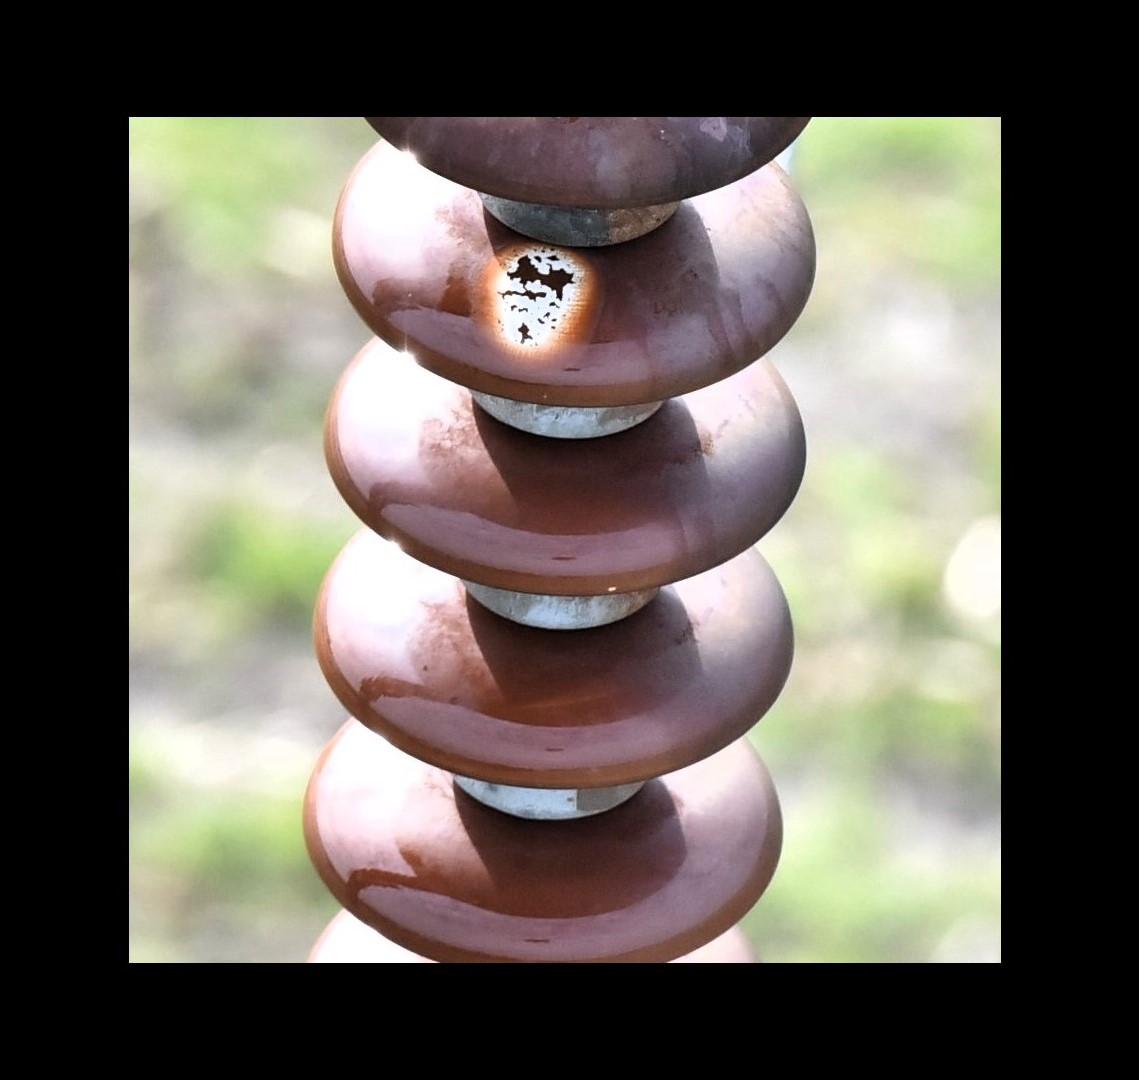Insulator flashover: (320, 139, 823, 415)
